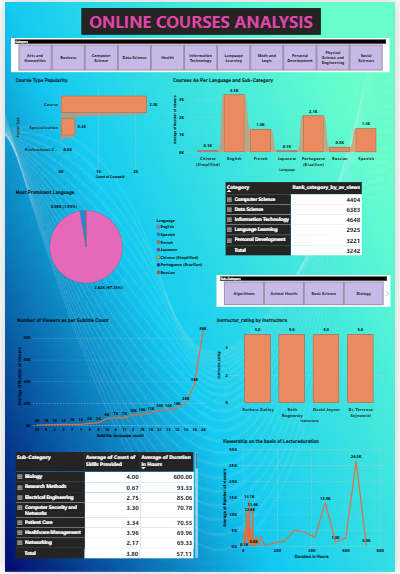

What the dashboard file says about the page in this screenshot:
{"tool":"powerbi","page":{"name":"Page 1","canvas":[1300,1900],"ordinal":0},"visuals":[{"type":"textbox","box":[252.6,17.5,798.2,89.5],"z":0},{"type":"slicer","fields":{"Values":["Online_Courses.Category"]},"box":[18,120,1262,114],"z":1000},{"type":"barChart","title":"Course Type Popularity","fields":{"Category":["Online_Courses.Course Type"],"Y":["CountNonNull(Online_Courses.CourseId)"]},"box":[32,252,498,344],"z":2000},{"type":"columnChart","title":"Courses As Per Language and Sub-Category ","fields":{"Category":["Online_Courses.Language","Online_Courses.Sub-Category"],"Y":["Avg(Online_Courses.Number of viewers)"]},"box":[556,252,724,320],"z":3000},{"type":"pieChart","title":"Most Prominant Language","fields":{"Y":["CountNonNull(Online_Courses.CourseId)"],"Category":["Online_Courses.Language"]},"box":[32,624,642,362],"z":4000},{"type":"pivotTable","fields":{"Values":["Online_Courses.Rank_category_by_av_views"],"Rows":["Online_Courses.Category","Online_Courses.Language"]},"box":[730,596,524,288],"z":5000},{"type":"lineChart","title":"Number of Viewers as per Subtitle Count","fields":{"Category":["Online_Courses.Subtitle_language_count"],"Y":["Avg(Online_Courses.Number of viewers)"]},"box":[36,1048,642,406],"z":5001},{"type":"slicer","fields":{"Values":["Teachers.Sub-Category"]},"box":[704,910,580,106],"z":5003},{"type":"clusteredColumnChart","fields":{"Category":["Teachers.Instructors"],"Y":["Teachers.Instructor_rating"]},"box":[702,1048,582,356],"z":5004},{"type":"lineChart","title":"Viewership on the basis of Lectureduration","fields":{"Category":["Online_Courses.Duration in Hours"],"Y":["Avg(Online_Courses.Number of viewers)"]},"box":[718,1454,548,406],"z":5005},{"type":"pivotTable","fields":{"Rows":["Online_Courses.Sub-Category","Online_Courses.Category"],"Values":["Avg(Online_Courses.Count of Skills Provided)","Avg(Online_Courses.Duration in Hours)"]},"box":[32,1496,618,364],"z":5006}]}

Visuals, with their boxes in screenshot pixels (x1, y1, x2, y2), scaled from the page's 1300x1900 canvas onto the 400x574 screenshot:
textbox: region(78, 5, 323, 32)
slicer - Online_Courses.Category: region(6, 36, 394, 71)
"Course Type Popularity" barChart: region(10, 76, 163, 180)
"Courses As Per Language and Sub-Category " columnChart: region(171, 76, 394, 173)
"Most Prominant Language" pieChart: region(10, 189, 207, 298)
pivotTable - Online_Courses.Rank_category_by_av_views x Online_Courses.Category: region(225, 180, 386, 267)
"Number of Viewers as per Subtitle Count" lineChart: region(11, 317, 209, 439)
slicer - Teachers.Sub-Category: region(217, 275, 395, 307)
clusteredColumnChart - Teachers.Instructors x Teachers.Instructor_rating: region(216, 317, 395, 424)
"Viewership on the basis of Lectureduration" lineChart: region(221, 439, 390, 562)
pivotTable - Online_Courses.Sub-Category x Online_Courses.Category: region(10, 452, 200, 562)
